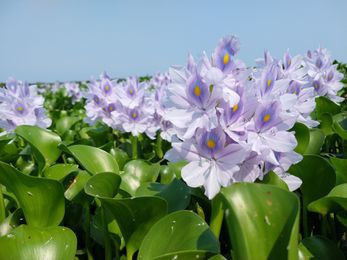water_hyacinth: (1, 125, 314, 260)
